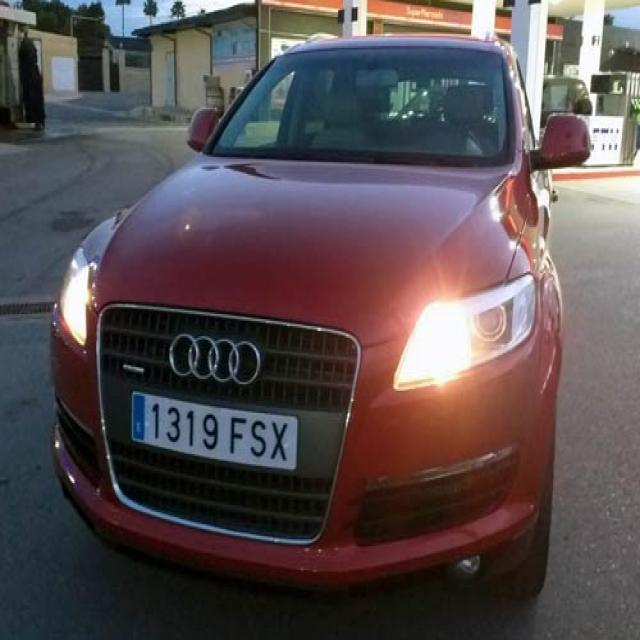License-Plate: (129, 386, 300, 474)
